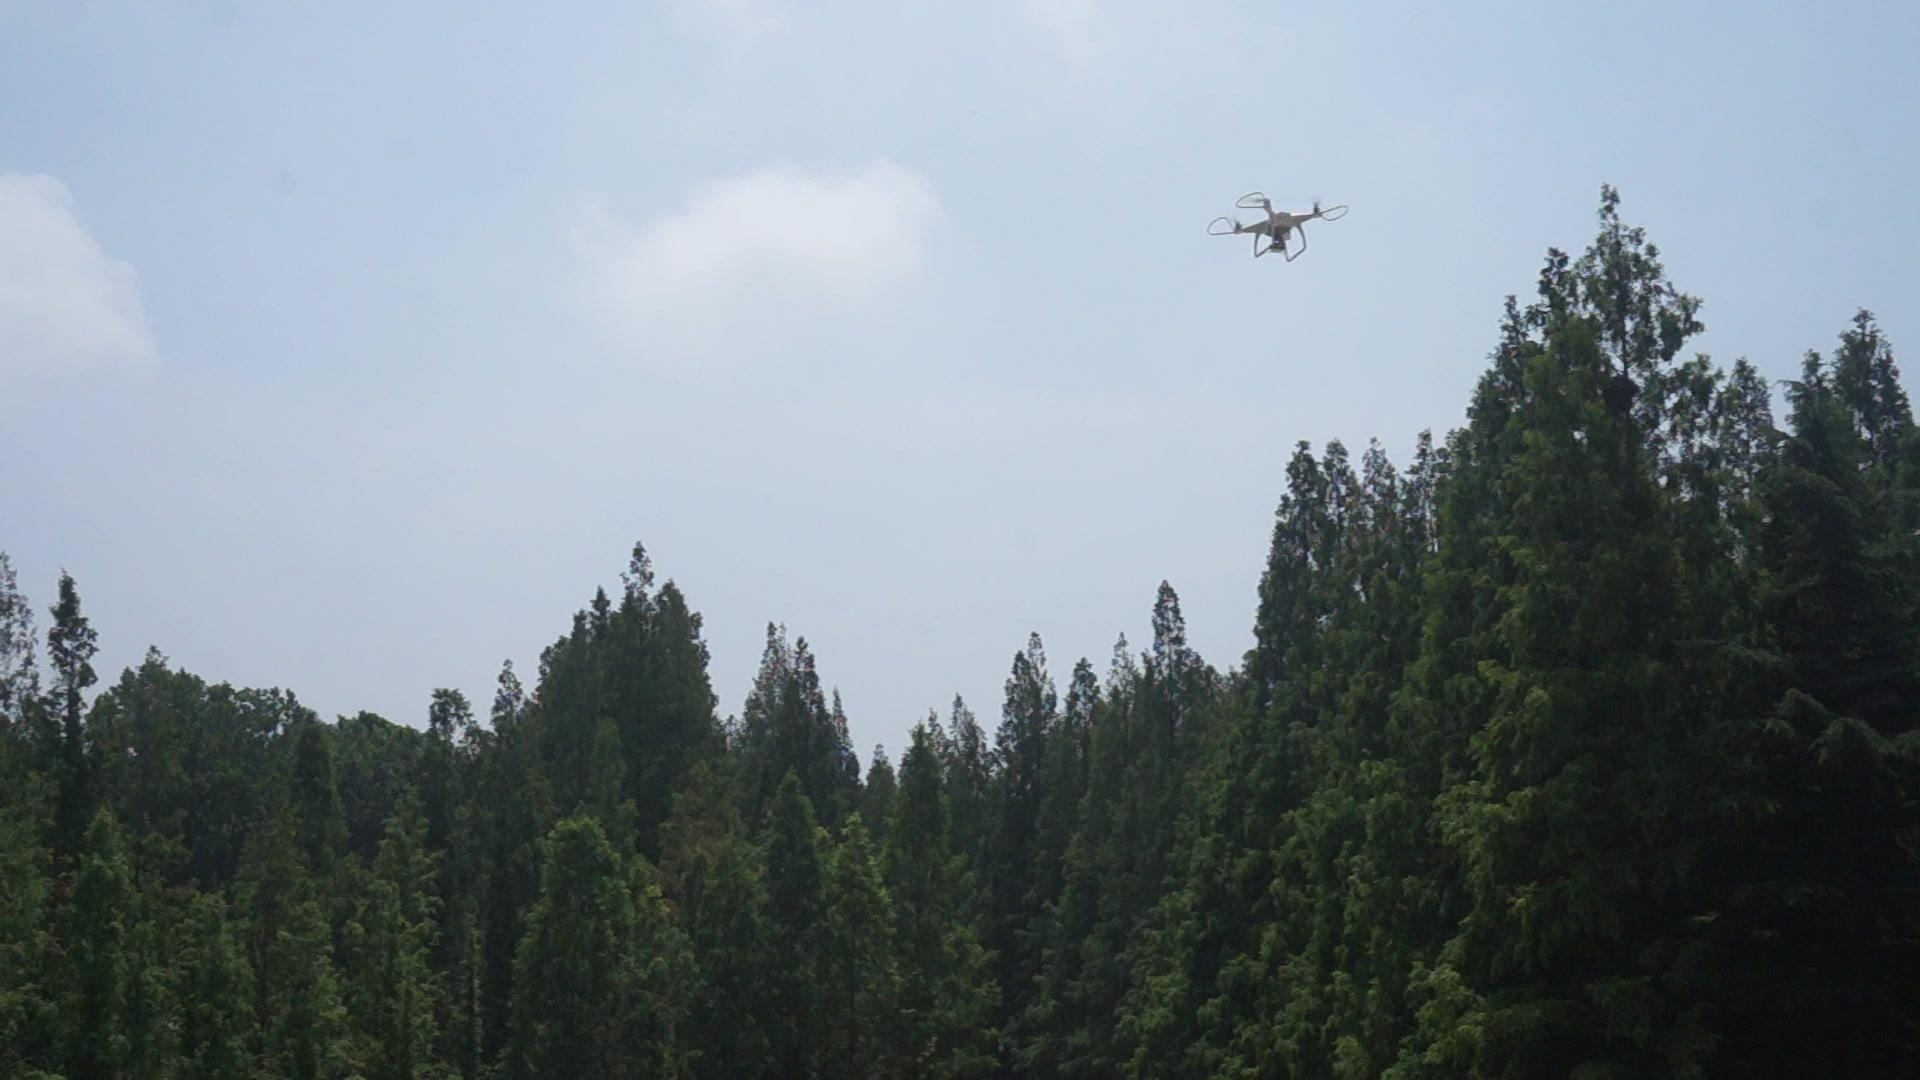UAV: (1207, 193, 1352, 262)
